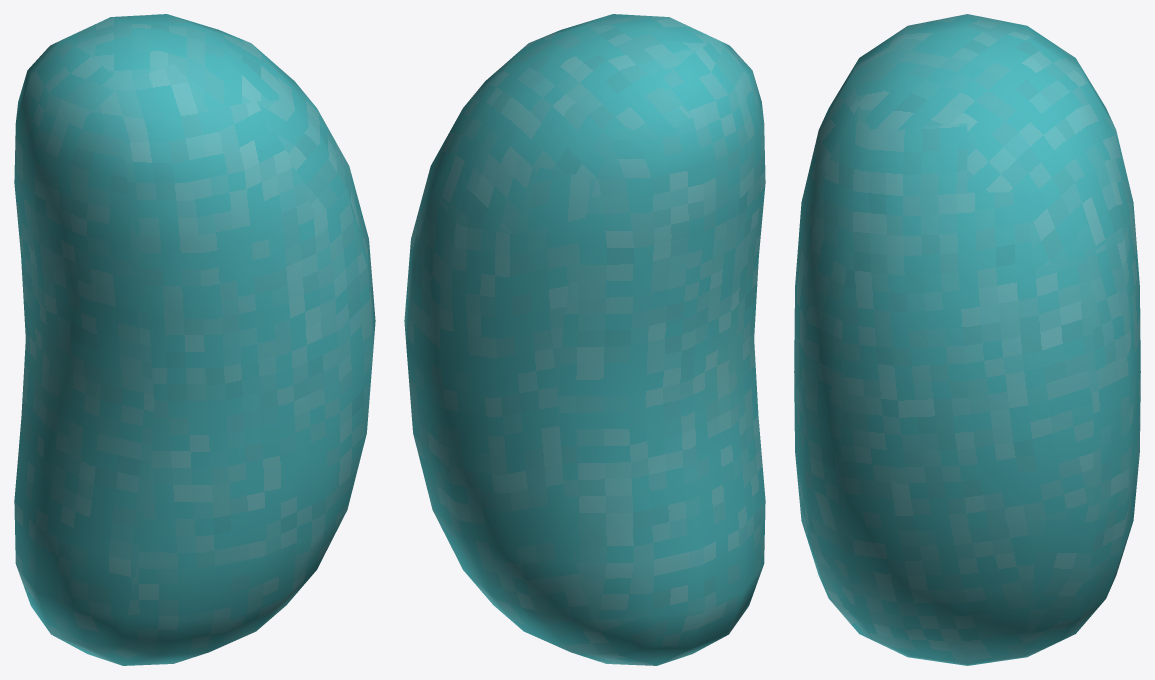
3 views of the same model, side by side, from view 1: azimuth 30°, elevation 25°; view 2: azimuth 150°, elevation 25°; view 3: azimuth 270°, elevation 25° (orthographic).
Visible parts, largest first — view 1: Cube.1408; view 2: Cube.1408; view 3: Cube.1408.
Part boxes in pixels (x1,y1,x2,y2): Cube.1408: (14, 14, 375, 665); Cube.1408: (404, 14, 765, 665); Cube.1408: (794, 14, 1140, 665).
Bounding box in the file's own units: 0.2731 × 0.5138 × 0.2612.
Materials: 1 (1 with a texture image).
